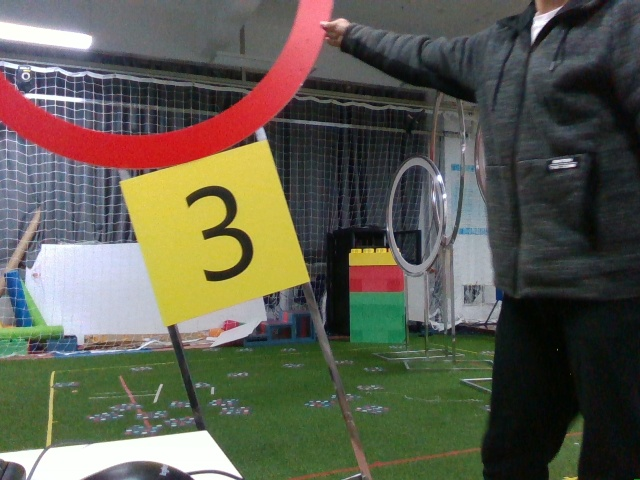target: (135, 169, 299, 305)
